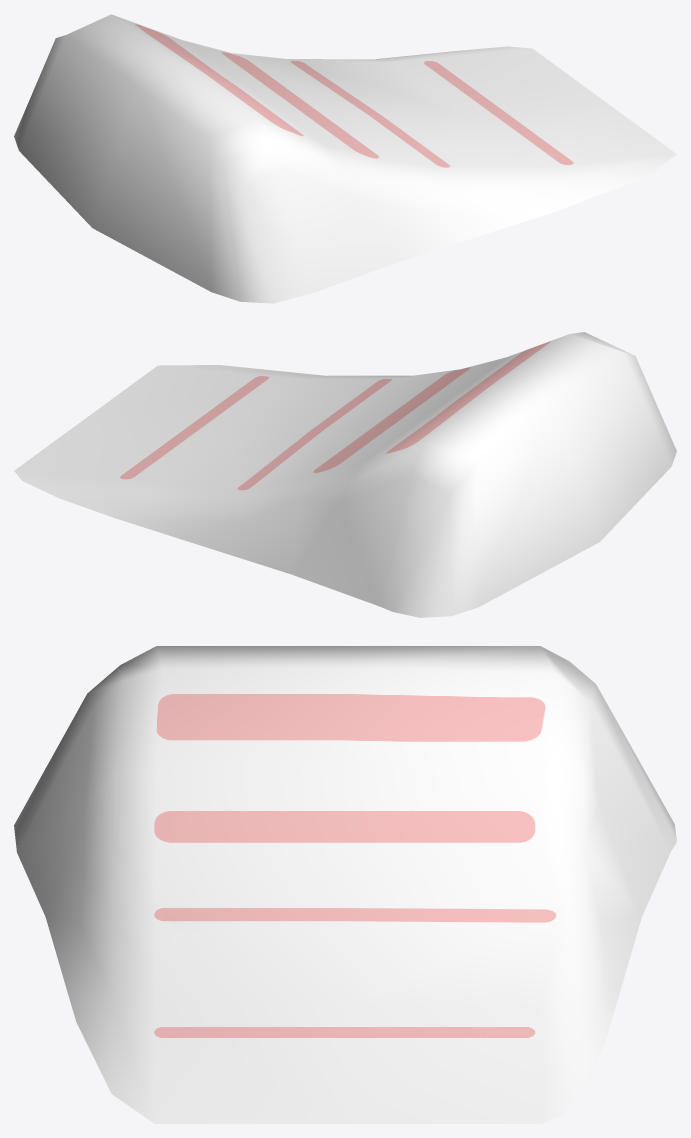
File: ski-jump-hp.fbx
The picture shows the model from 3 angles, top to bottom: view 1: azimuth 30°, elevation 25°; view 2: azimuth 150°, elevation 25°; view 3: azimuth 270°, elevation 25°; orthographic projection. The views are drawn at different scales.
Visible parts, largest first — view 1: mdl_ski_jump_hp; view 2: mdl_ski_jump_hp; view 3: mdl_ski_jump_hp.
Boxes of the visible parts, bbox=[...] form: mdl_ski_jump_hp: bbox=[14, 14, 676, 303]; mdl_ski_jump_hp: bbox=[14, 332, 676, 617]; mdl_ski_jump_hp: bbox=[14, 646, 676, 1123].
Bounding box in the file's own units: 339 × 85.43 × 282.
